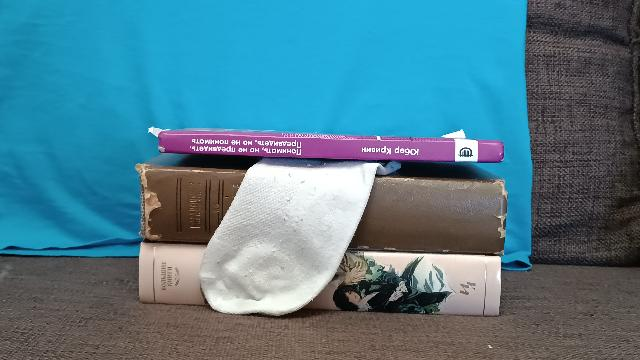book-s-spine: (143, 170, 508, 256), (140, 243, 502, 318), (158, 132, 504, 164)
